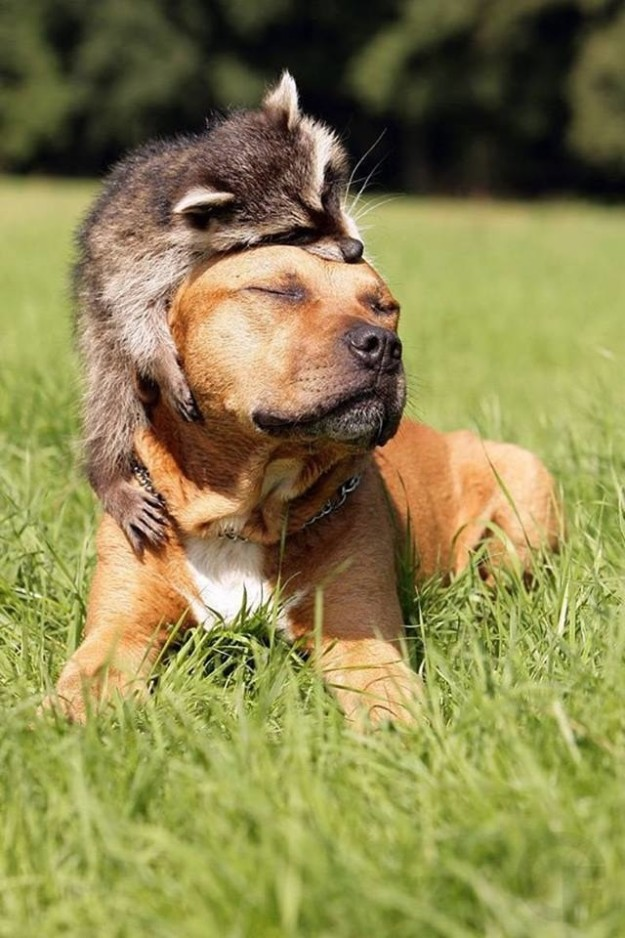raccoon: (69, 70, 366, 563)
